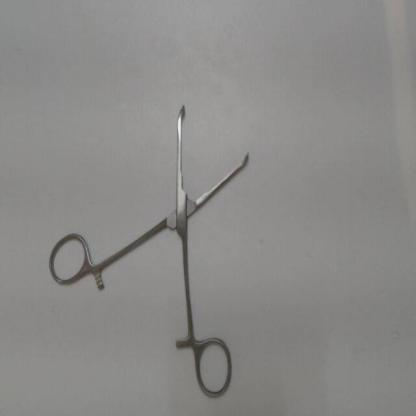Allis Tissue Forceps: (45, 93, 264, 409)
